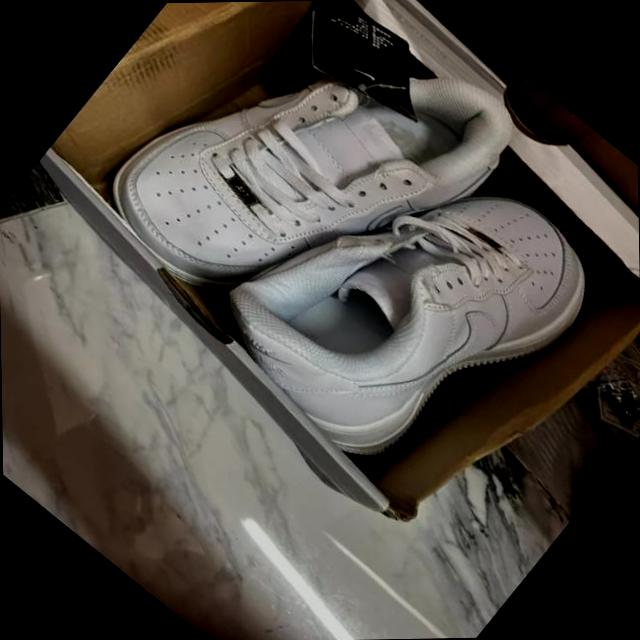nike_fake_airforce: (202, 87, 639, 524), (82, 0, 541, 393)
